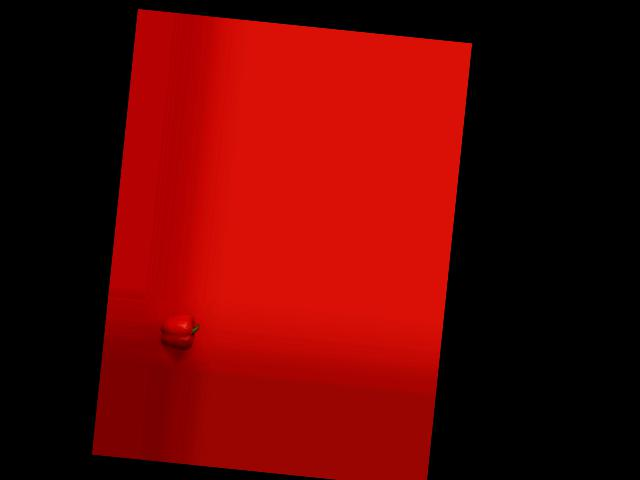bell_pepper: (156, 312, 201, 352)
